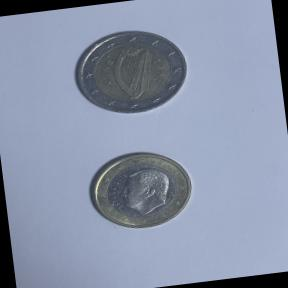coin: (67, 20, 194, 125), (80, 142, 202, 238)
